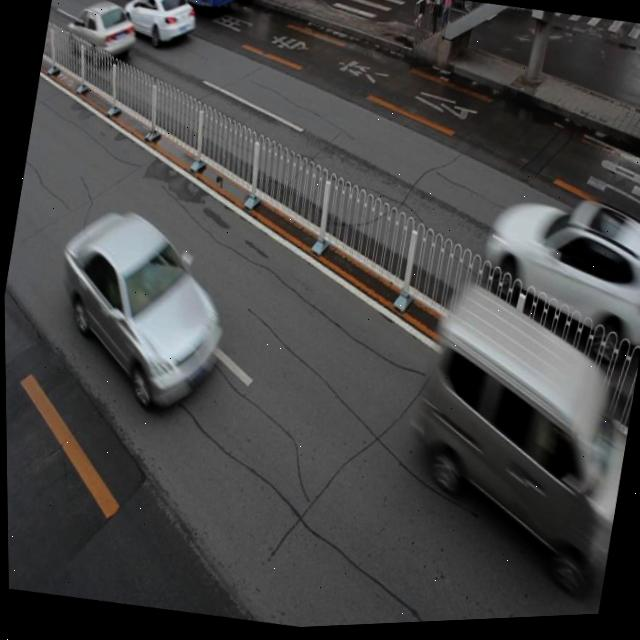car: (40, 200, 238, 419), (469, 189, 640, 360), (62, 0, 141, 71), (118, 0, 202, 54)
truck: (395, 283, 638, 596)
van: (71, 0, 251, 23)
